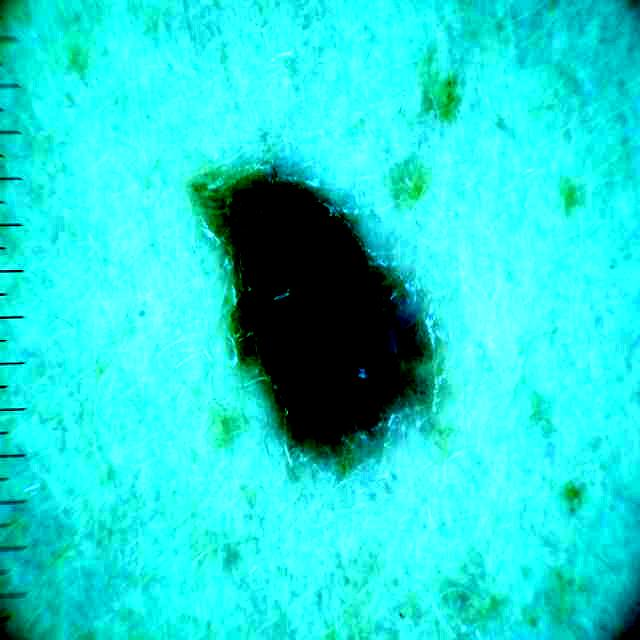MEL: (195, 168, 434, 476)
